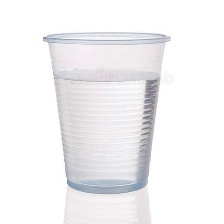glass: (35, 25, 177, 195)
